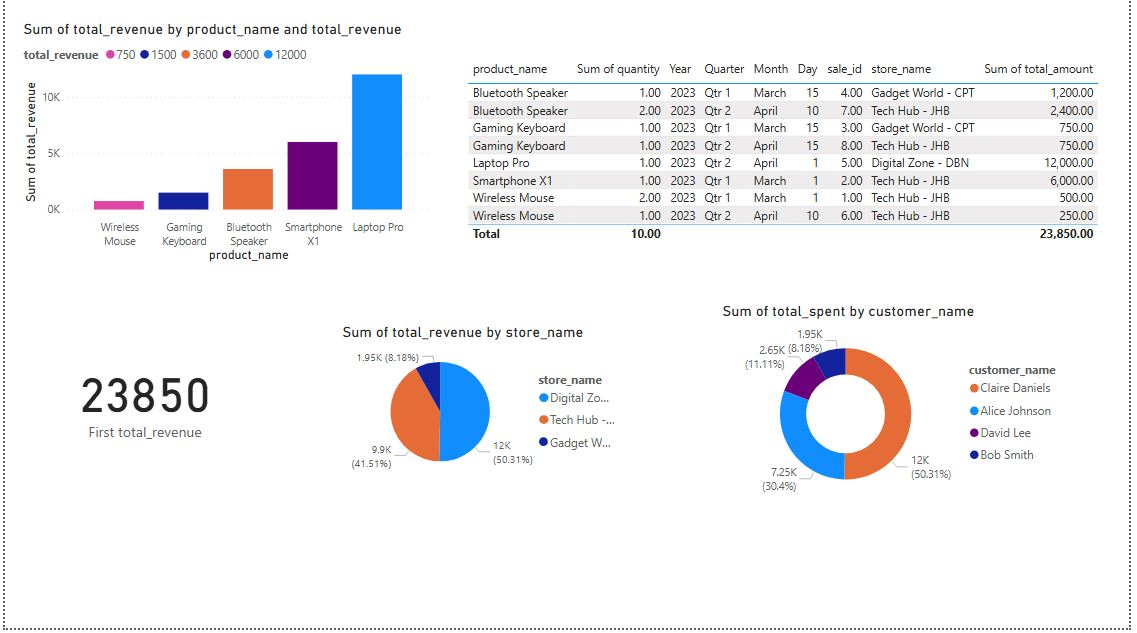

The dashboard page shown, as its layout file describes it:
{"tool":"powerbi","page":{"name":"Page 1","canvas":[1280,720],"ordinal":0},"visuals":[{"type":"columnChart","fields":{"Category":["Sales_By_Product.product_name"],"Y":["Sales_By_Product.total_revenue"],"Series":["Sales_By_Product.total_revenue"]},"box":[15.9,27.3,472.8,280.3],"z":0},{"type":"tableEx","fields":{"Values":["Sales_With_Product_Store.product_name","Sales_With_Product_Store.quantity","Sales_With_Product_Store.sale_date.Variation.Date Hierarchy.Year","Sales_With_Product_Store.sale_date.Variation.Date Hierarchy.Quarter","Sales_With_Product_Store.sale_date.Variation.Date Hierarchy.Month","Sales_With_Product_Store.sale_date.Variation.Date Hierarchy.Day","Sales_With_Product_Store.sale_id","Sales_With_Product_Store.store_name","Sales_With_Product_Store.total_amount"]},"box":[521.8,67.2,740.5,240.4],"z":2},{"type":"card","fields":{"Values":["Simple_Total_Sales.total_revenue"]},"box":[15.9,360,287.1,195.9],"z":3},{"type":"pieChart","fields":{"Category":["Sales_By_Store.store_name"],"Y":["Sales_By_Store.total_revenue"]},"box":[379.4,372.5,330.4,183.4],"z":4},{"type":"donutChart","fields":{"Category":["Sales_By_Customer.customer_name"],"Y":["Sales_By_Customer.total_spent"]},"box":[812.3,348.6,406.7,235.8],"z":5}]}

Visuals, with their boxes in screenshot pixels (x1, y1, x2, y2), scaled from the page's 1280x720 canvas onto the 1137x633 screenshot:
columnChart - Sales_By_Product.product_name x Sales_By_Product.total_revenue: detection(14, 24, 434, 270)
tableEx - Sales_With_Product_Store.product_name x Sales_With_Product_Store.quantity: detection(464, 59, 1121, 270)
card - Simple_Total_Sales.total_revenue: detection(14, 316, 269, 489)
pieChart - Sales_By_Store.store_name x Sales_By_Store.total_revenue: detection(337, 327, 631, 489)
donutChart - Sales_By_Customer.customer_name x Sales_By_Customer.total_spent: detection(722, 306, 1083, 514)
